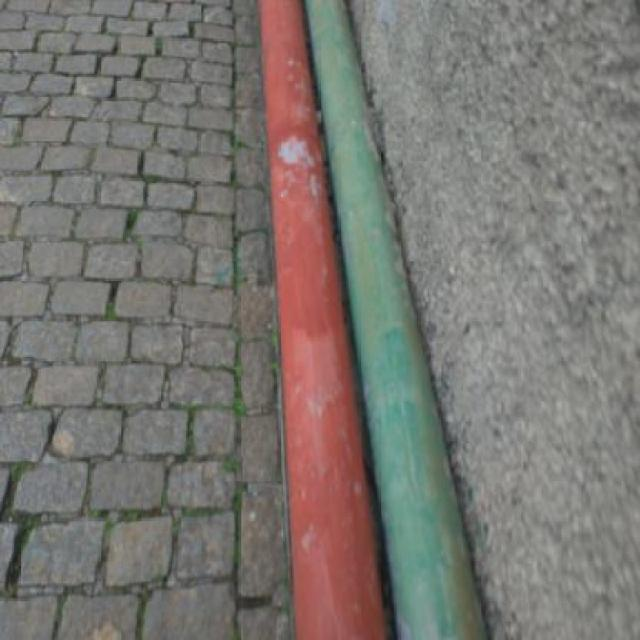gas: (307, 1, 493, 638), (261, 0, 387, 634)
